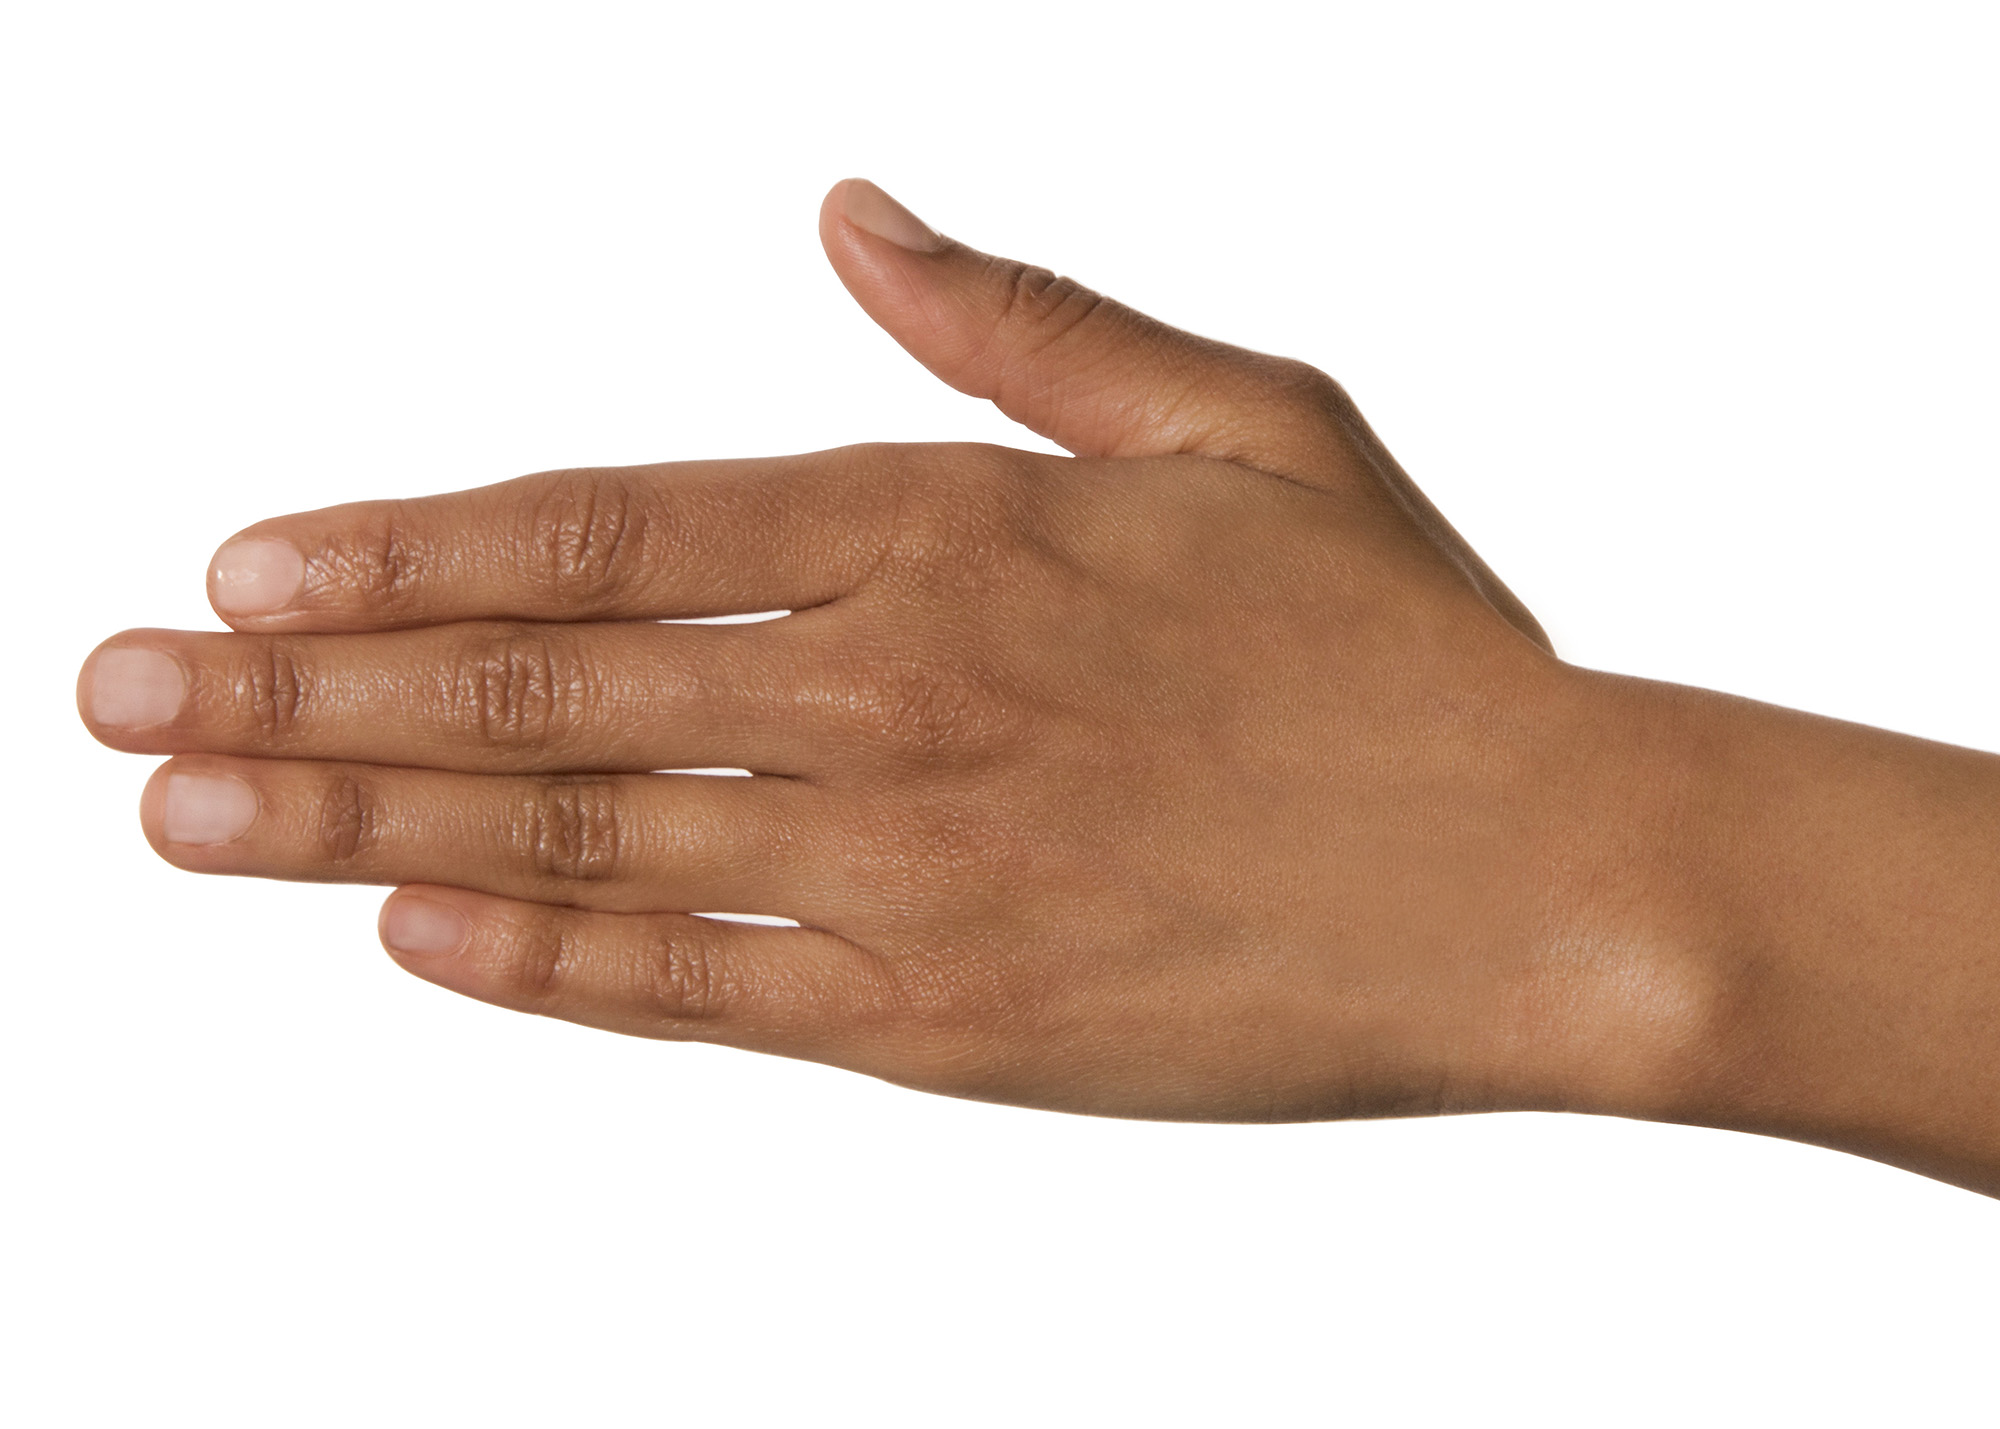finger: (201, 438, 886, 636), (65, 614, 824, 762), (368, 875, 879, 1084), (133, 756, 845, 888)
